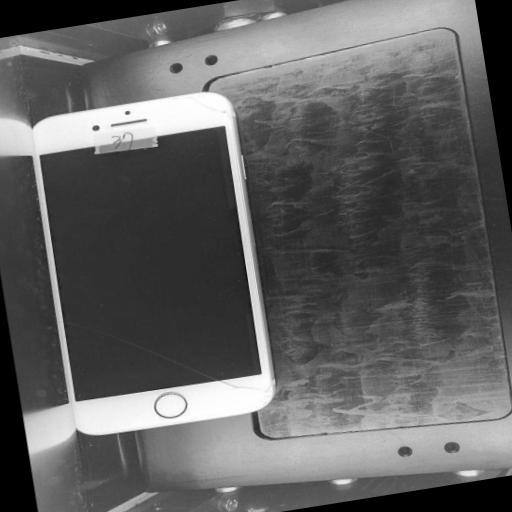phone: (35, 95, 283, 449)
